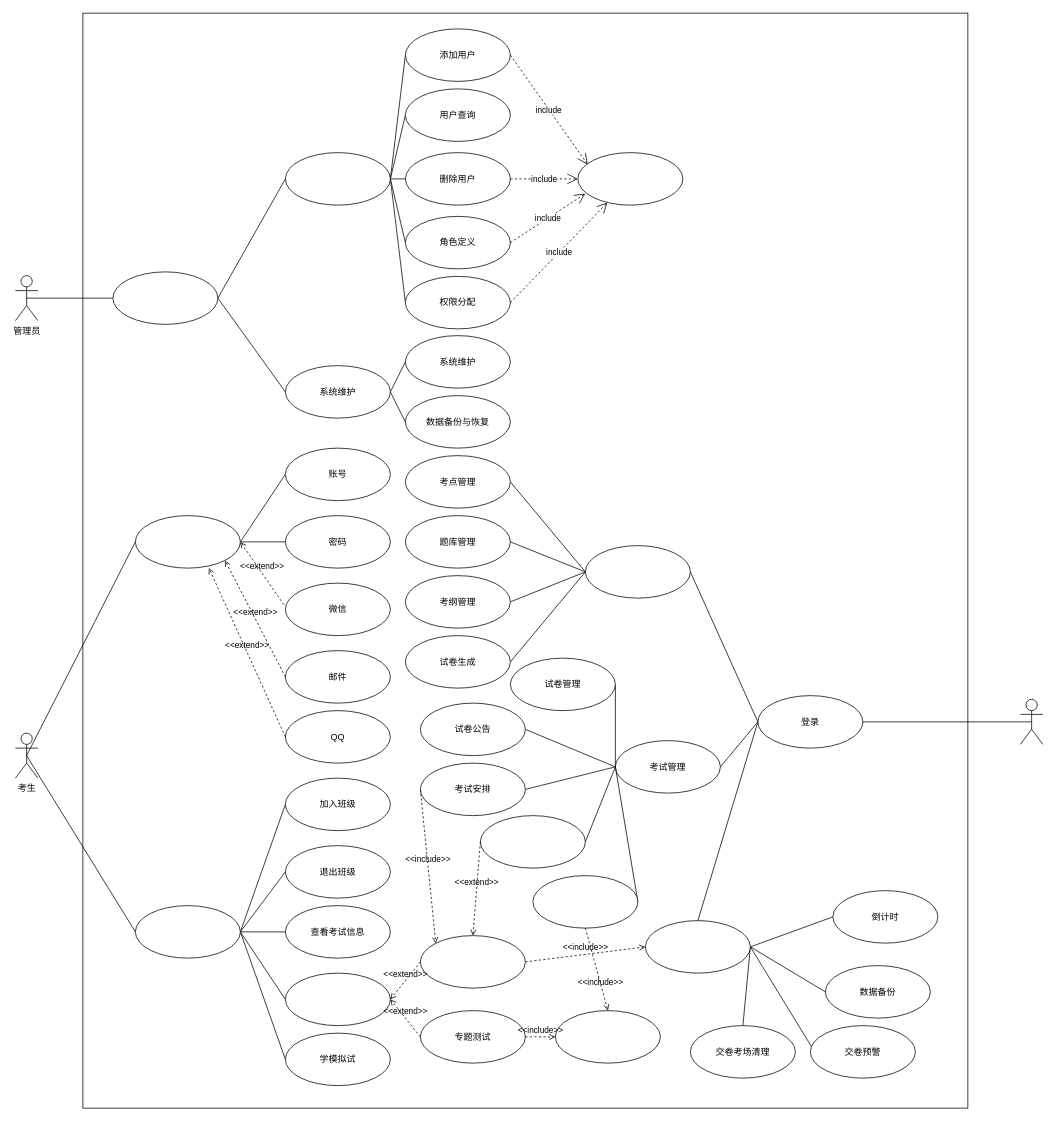
Some shapes in this 1056 by 1121 pixel diagram are drawn without their labels. The centre of each missing label's shape, as x and y in pixels:
专题管理: pixel 585 901
学生考试: pixel 337 999
教师: pixel 1031 721
数据保存: pixel 630 178
期末考试: pixel 472 961
用户管理: pixel 337 178
管理员登录: pixel 165 297
考生注册: pixel 187 541
考生登录: pixel 187 931
考试设计: pixel 637 571
考试过程管理: pixel 697 946
试卷分析: pixel 532 841
选择测试模块: pixel 607 1036
